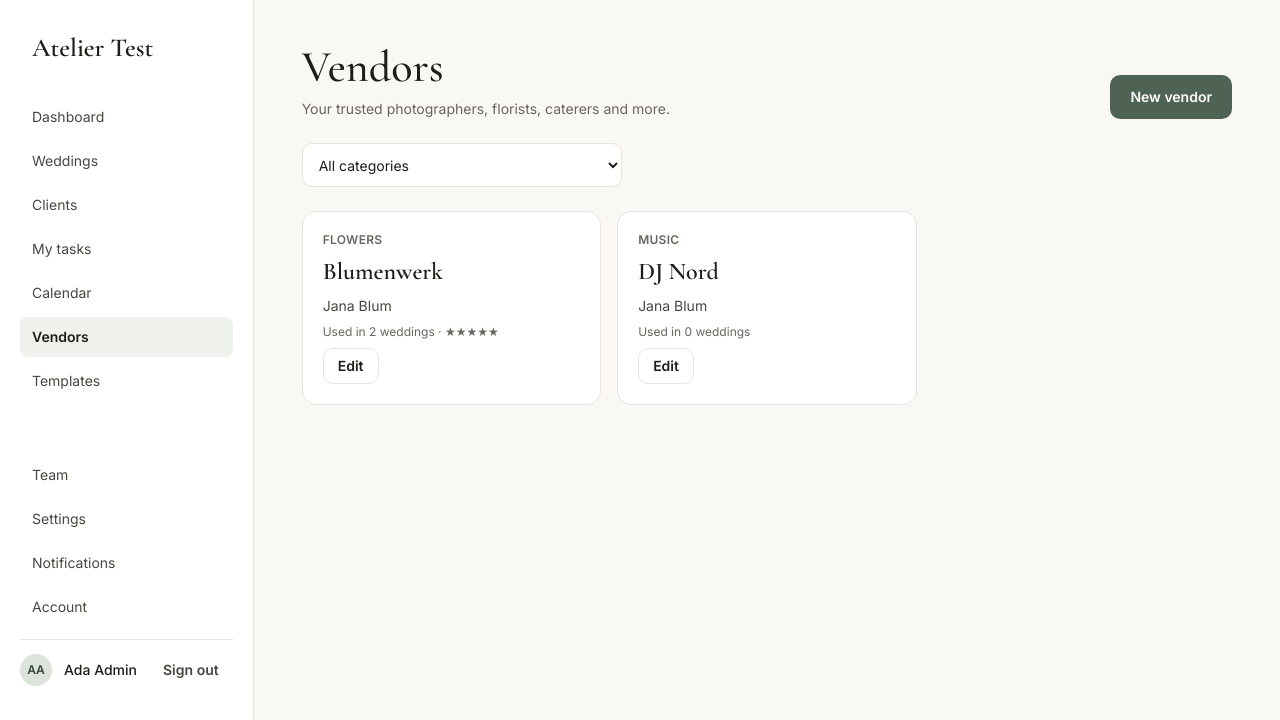
Scenario: filters the vendor directory and rates a vendor
Later steps or results of the test are not shown.
Expected: the text "Used in 2 weddings · ★★★★★" is shown, [323,324,499,339]
Select "Music" in the dropdown named "Filter by category" at (462, 165), box [302,143,622,187]
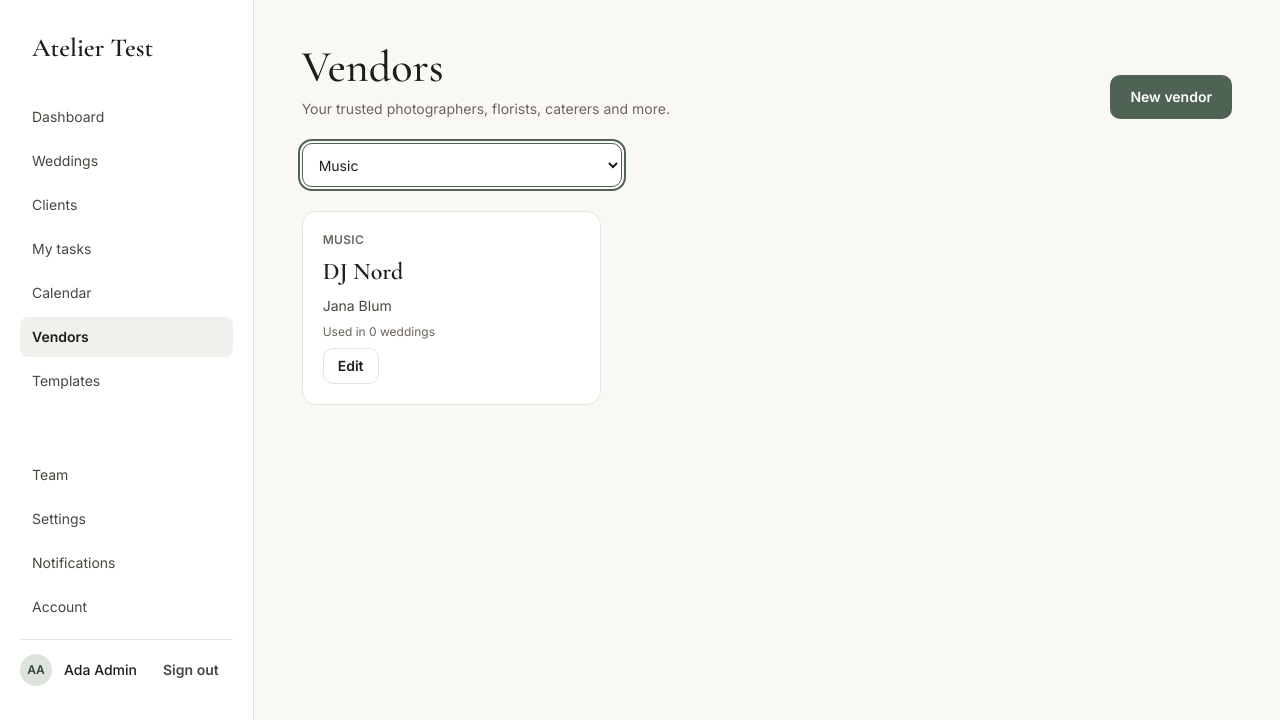
Now the text "Blumenwerk" is gone
